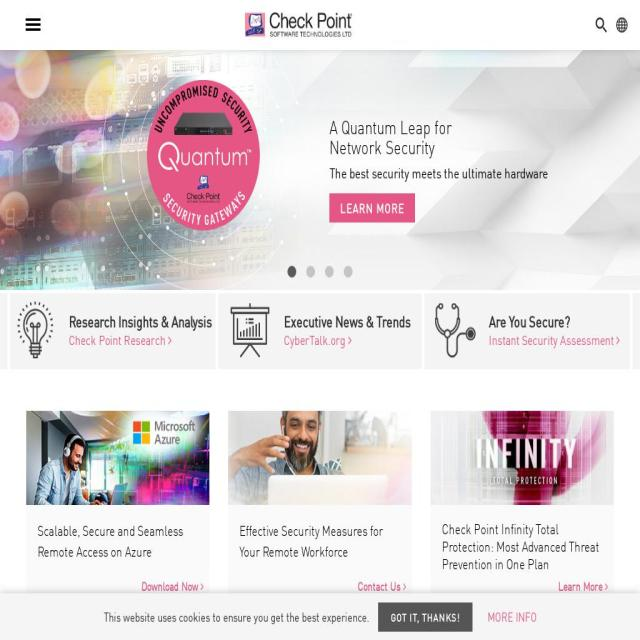button: (26, 411, 210, 506), (228, 411, 412, 506), (430, 411, 614, 506), (68, 312, 212, 349), (488, 312, 620, 349), (284, 312, 411, 349), (378, 602, 472, 632), (244, 13, 354, 36), (329, 194, 415, 222), (19, 11, 47, 38), (442, 520, 602, 521)
heading: (442, 520, 602, 573), (38, 520, 198, 562), (240, 520, 400, 562), (329, 113, 452, 139), (330, 133, 434, 159)
image: (26, 411, 210, 506), (228, 411, 412, 506), (430, 411, 614, 506), (244, 13, 354, 36), (14, 302, 57, 358), (229, 302, 272, 358), (434, 302, 477, 358), (306, 266, 315, 277), (325, 266, 334, 277), (343, 266, 352, 277), (288, 266, 296, 277), (26, 18, 40, 21), (26, 23, 40, 26), (26, 28, 40, 31)
link: (68, 312, 212, 330), (488, 312, 620, 330), (284, 312, 411, 330), (487, 606, 537, 626)
text: (103, 606, 369, 626), (330, 165, 548, 181), (489, 329, 617, 349), (69, 329, 169, 349), (284, 329, 348, 349), (141, 580, 201, 593), (557, 580, 605, 593), (357, 580, 403, 593)
